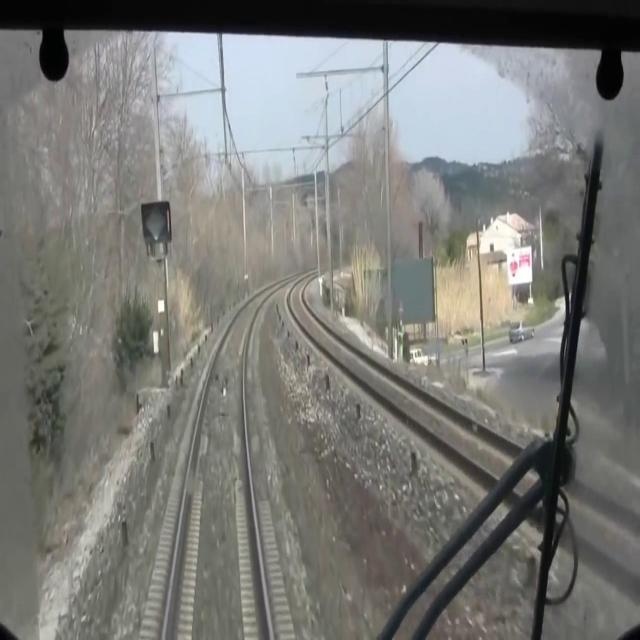rail-track: (289, 273, 640, 572), (167, 279, 290, 639)
